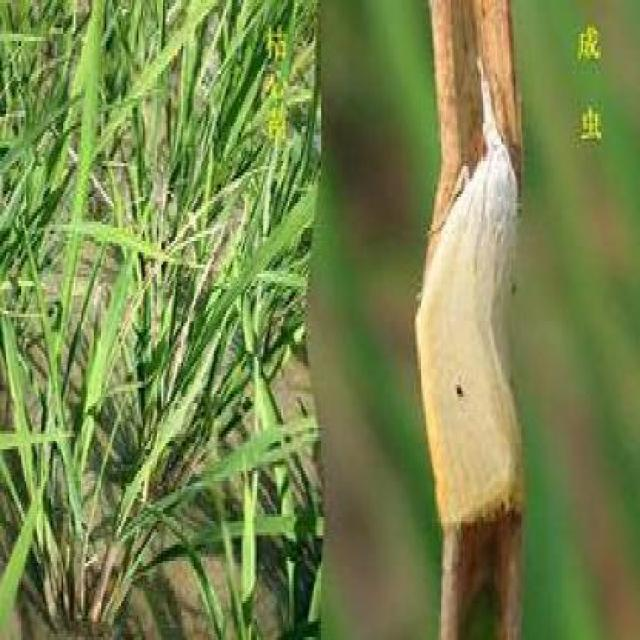stem-borer: (412, 58, 531, 534)
